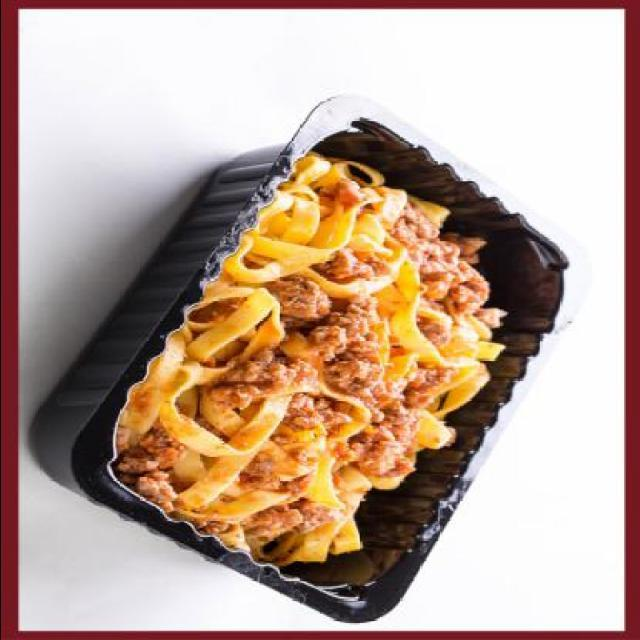Pasta al ragu: (98, 122, 567, 598)
